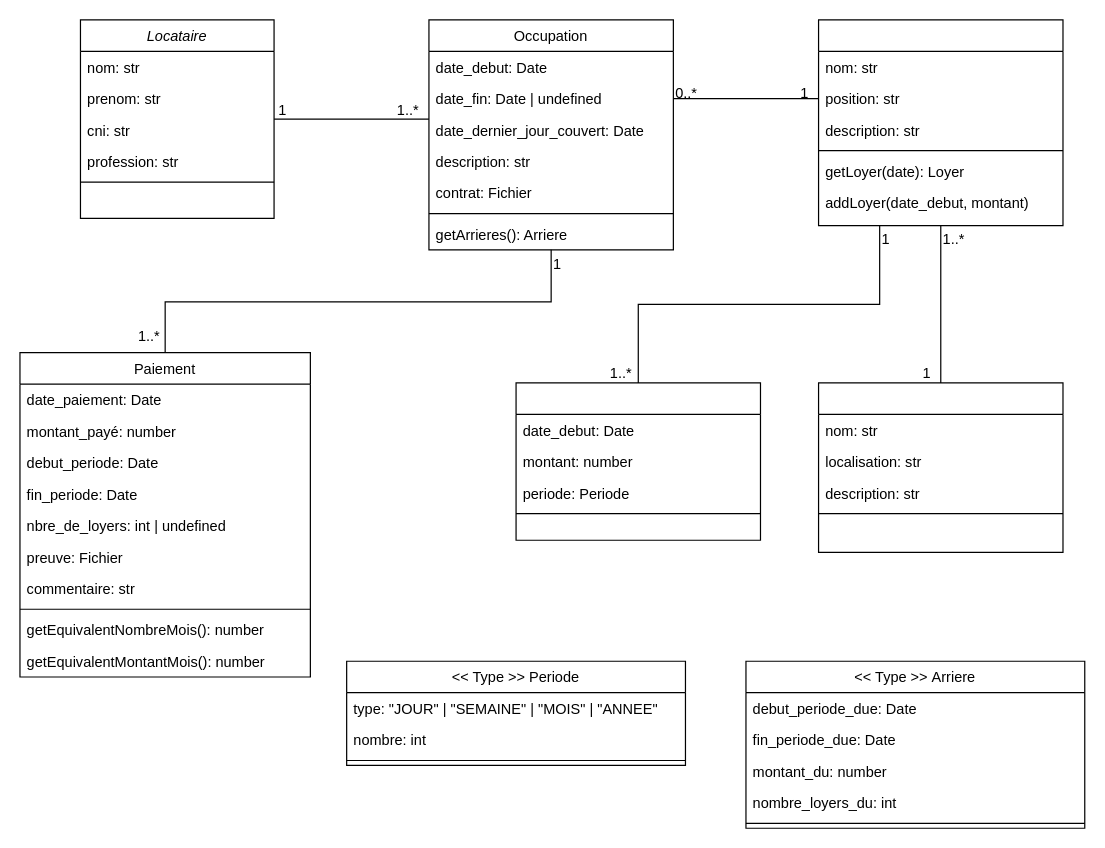
The diagram is 1105 pixels wide and 848 high, and some of its shapes have lost their labels. The shapes that lost their labels are listed below. From the top down, each one's box as (x1, y1, x2, y2) in pixels, then its label:
(817, 19, 1063, 226): Logement
(515, 382, 760, 540): Loyer
(817, 382, 1063, 552): Batiment
